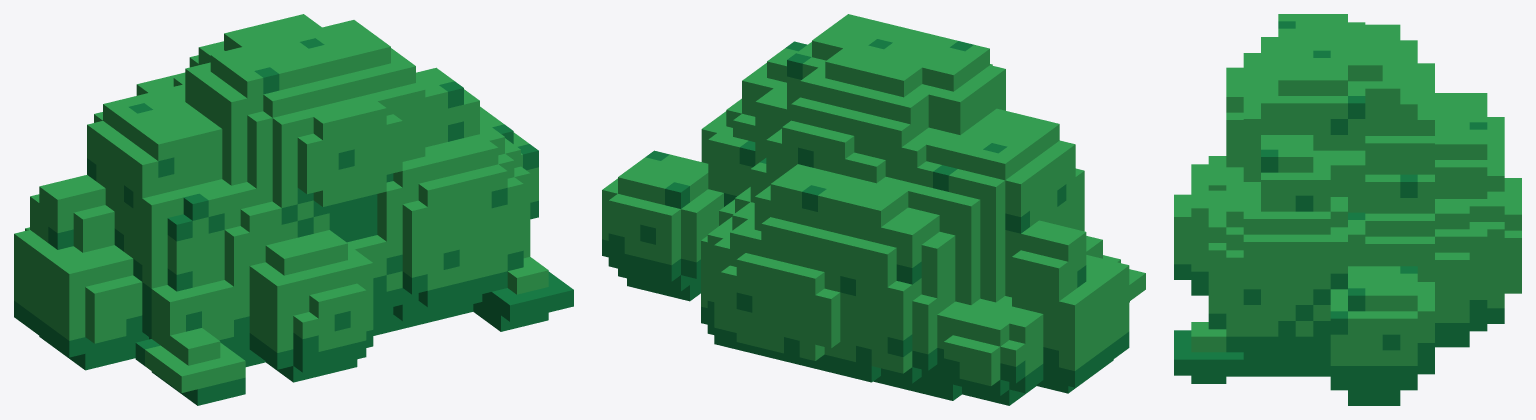
File: Bush.fbx
The picture shows the model from 3 angles, left to right: view 1: azimuth 30°, elevation 25°; view 2: azimuth 150°, elevation 25°; view 3: azimuth 270°, elevation 25°; orthographic projection. The views are drawn at different scales.
Parts seen in each view (by area): view 1: Bush; view 2: Bush; view 3: Bush.
Part boxes in pixels (x1,y1,x2,y2): Bush: (14, 14, 573, 405); Bush: (602, 14, 1145, 405); Bush: (1174, 14, 1521, 405).
Size of the model in its own units: 300 by 160 by 200.
